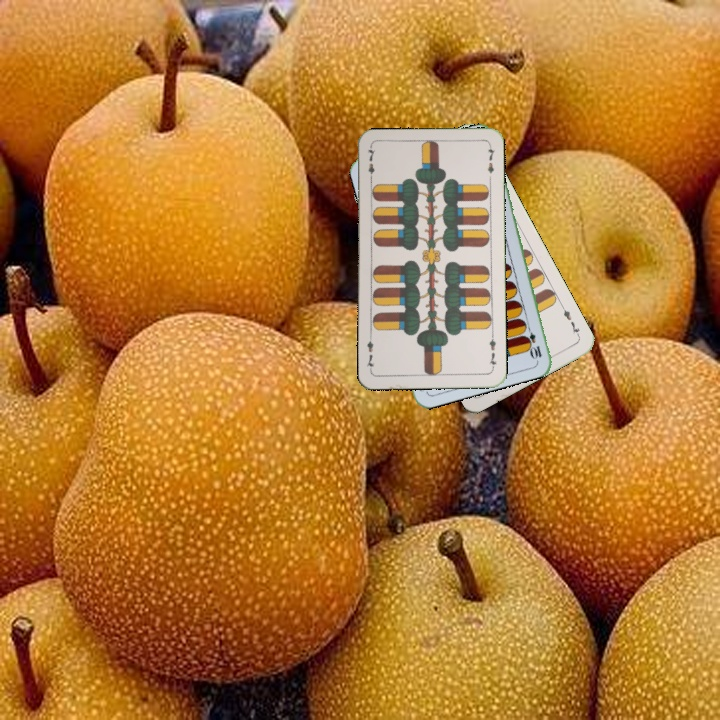E10: (522, 321, 544, 361)
E7: (558, 302, 583, 340), (485, 331, 499, 371), (364, 144, 378, 184)
